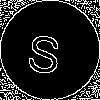S: (25, 25, 64, 75)
